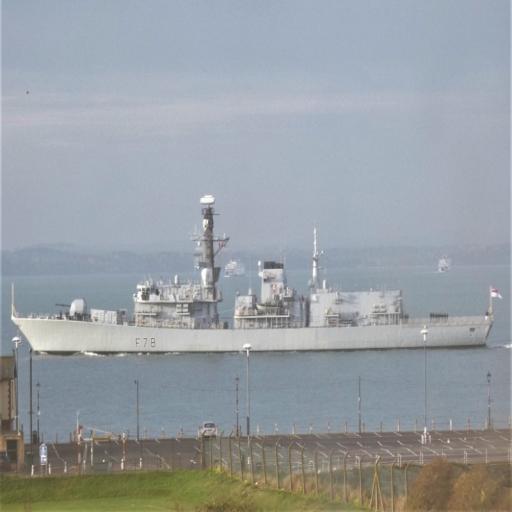Fragata: (10, 190, 499, 362)
